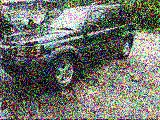car: (2, 4, 144, 92)
